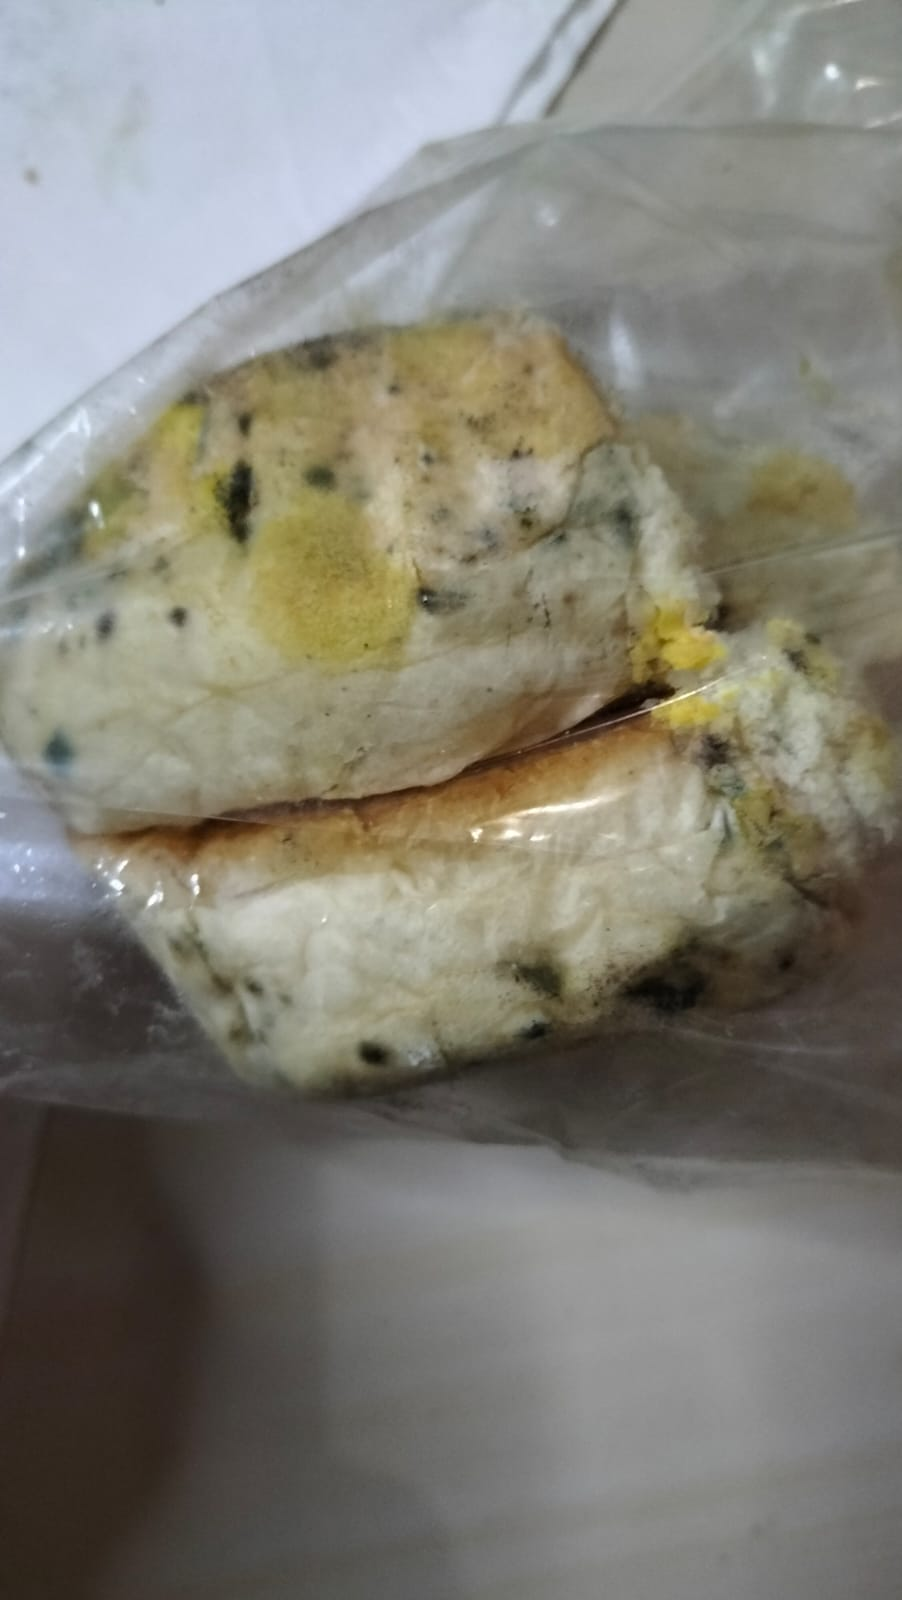mold_bread: (169, 921, 305, 1067), (598, 938, 747, 1018), (490, 936, 575, 1051), (207, 449, 272, 553), (163, 377, 223, 458), (679, 721, 740, 797), (275, 322, 356, 373), (606, 476, 644, 558), (35, 720, 79, 786), (350, 1030, 399, 1073), (303, 453, 344, 502), (405, 579, 450, 621), (87, 607, 123, 646), (162, 599, 199, 633), (232, 402, 257, 444)
